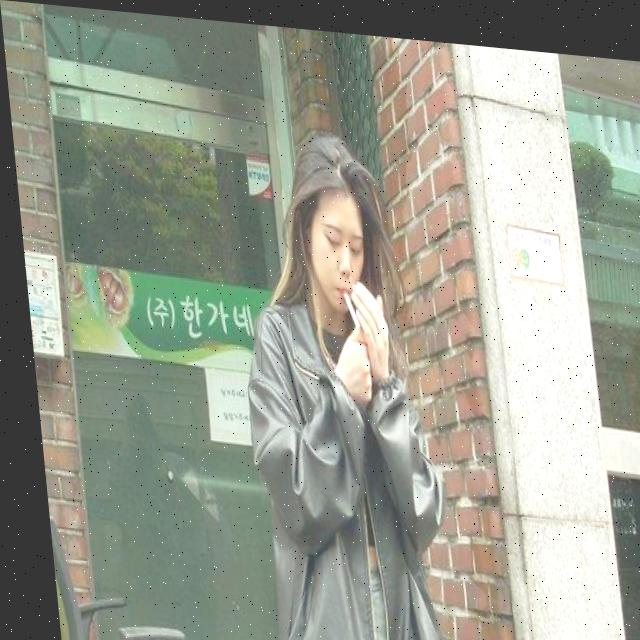cigarette: (338, 285, 356, 324)
